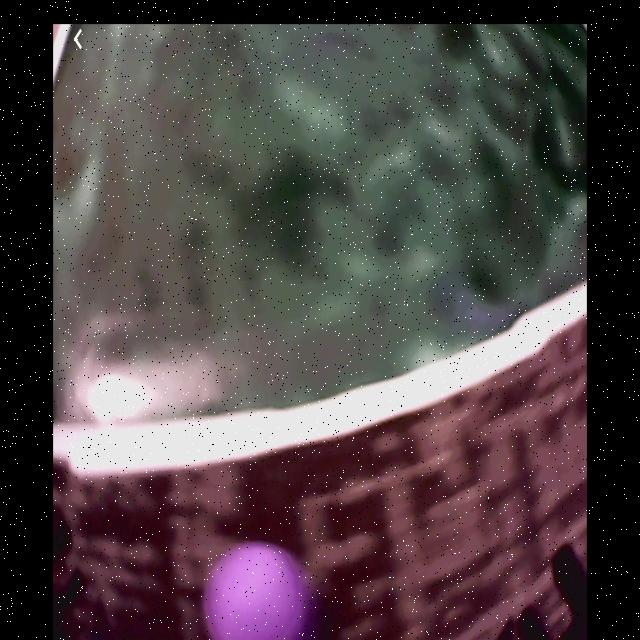ball: (201, 537, 312, 639)
